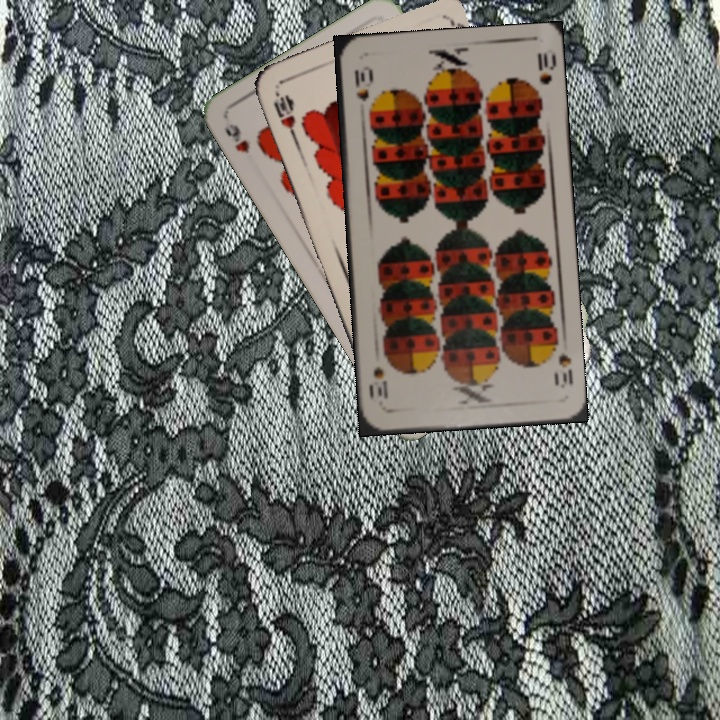H10: (269, 86, 299, 142)
H9: (220, 119, 253, 156)
S10: (550, 349, 576, 391), (350, 66, 372, 104)
